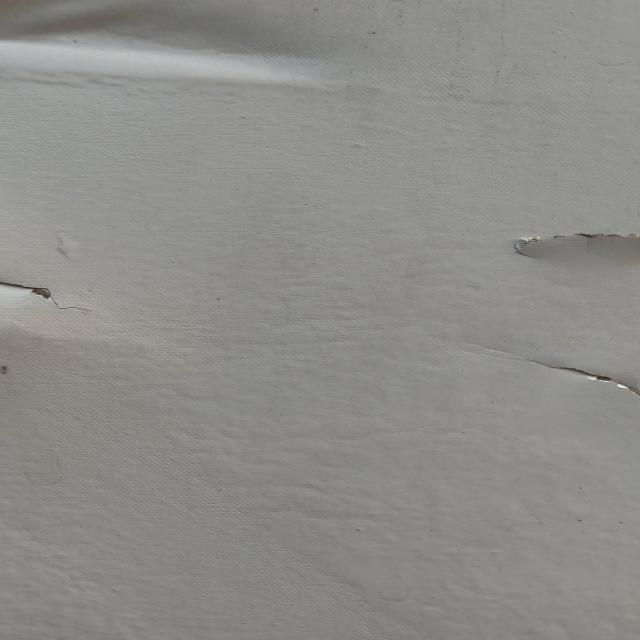Scratches: (526, 345, 640, 413), (1, 266, 110, 334), (514, 213, 640, 266)
